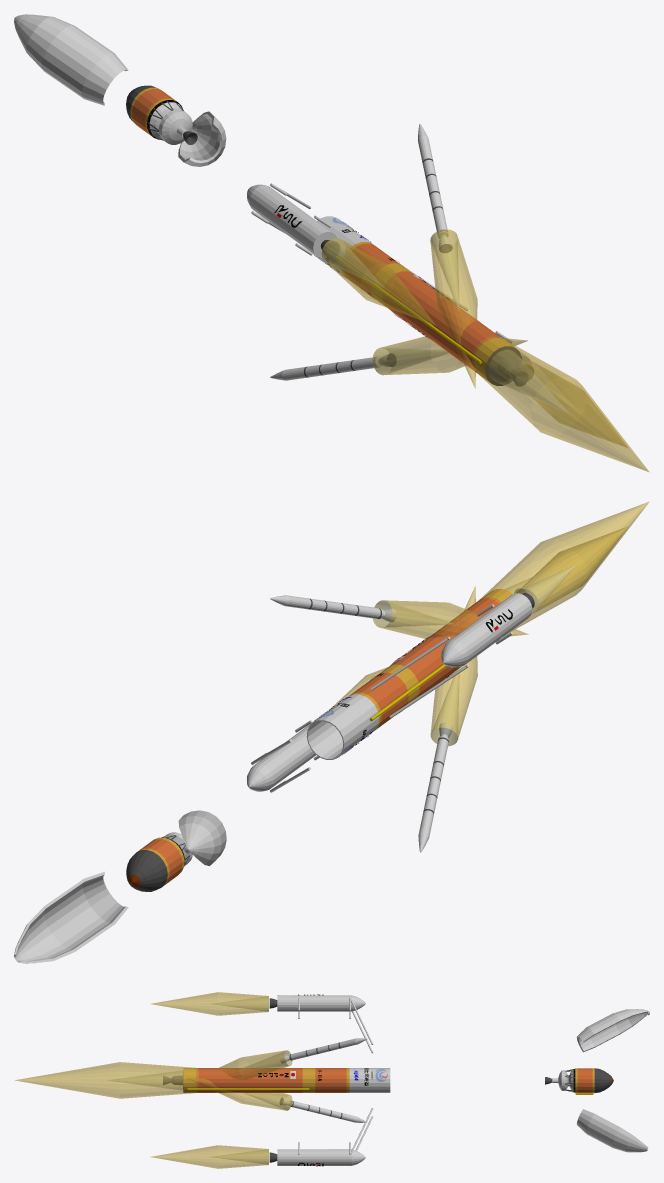
The model's file is H2A_SEP.obj.
3 views of the same model, one above another, from view 1: azimuth 30°, elevation 25°; view 2: azimuth 150°, elevation 25°; view 3: azimuth 270°, elevation 25° (orthographic). The views are drawn at different scales.
Visible parts, largest first — view 1: ShapeIndexedFaceSet.020_ShapeIndexedFaceSet.021, ShapeIndexedFaceSet.013_ShapeIndexedFaceSet.014, ShapeIndexedFaceSet.008_ShapeIndexedFaceSet.009, ShapeIndexedFaceSet.042_ShapeIndexedFaceSet.043, ShapeIndexedFaceSet.027_ShapeIndexedFaceSet.028, ShapeIndexedFaceSet.024_ShapeIndexedFaceSet.025, ShapeIndexedFaceSet.038_ShapeIndexedFaceSet.039, ShapeIndexedFaceSet.034_ShapeIndexedFaceSet.035, ShapeIndexedFaceSet.021_ShapeIndexedFaceSet.022, ShapeIndexedFaceSet.007_ShapeIndexedFaceSet.008, ShapeIndexedFaceSet.001_ShapeIndexedFaceSet.002, ShapeIndexedFaceSet.011_ShapeIndexedFaceSet.012 (+8 smaller); view 2: ShapeIndexedFaceSet.020_ShapeIndexedFaceSet.021, ShapeIndexedFaceSet.007_ShapeIndexedFaceSet.008, ShapeIndexedFaceSet.013_ShapeIndexedFaceSet.014, ShapeIndexedFaceSet.027_ShapeIndexedFaceSet.028, ShapeIndexedFaceSet.024_ShapeIndexedFaceSet.025, ShapeIndexedFaceSet.010_ShapeIndexedFaceSet.011, ShapeIndexedFaceSet.042_ShapeIndexedFaceSet.043, ShapeIndexedFaceSet.038_ShapeIndexedFaceSet.039, ShapeIndexedFaceSet.031_ShapeIndexedFaceSet.032, ShapeIndexedFaceSet.008_ShapeIndexedFaceSet.009, ShapeIndexedFaceSet.036_ShapeIndexedFaceSet.037, ShapeIndexedFaceSet.002_ShapeIndexedFaceSet.003 (+6 smaller); view 3: ShapeIndexedFaceSet.020_ShapeIndexedFaceSet.021, ShapeIndexedFaceSet.013_ShapeIndexedFaceSet.014, ShapeIndexedFaceSet.034_ShapeIndexedFaceSet.035, ShapeIndexedFaceSet.027_ShapeIndexedFaceSet.028, ShapeIndexedFaceSet.007_ShapeIndexedFaceSet.008, ShapeIndexedFaceSet.008_ShapeIndexedFaceSet.009, ShapeIndexedFaceSet.024_ShapeIndexedFaceSet.025, ShapeIndexedFaceSet.031_ShapeIndexedFaceSet.032, ShapeIndexedFaceSet.042_ShapeIndexedFaceSet.043, ShapeIndexedFaceSet.038_ShapeIndexedFaceSet.039, ShapeIndexedFaceSet.010_ShapeIndexedFaceSet.011, ShapeIndexedFaceSet.021_ShapeIndexedFaceSet.022 (+11 smaller).
Part boxes in pixels (left/top/right/bottom): ShapeIndexedFaceSet.020_ShapeIndexedFaceSet.021: left=472, top=337, right=649, bottom=472; ShapeIndexedFaceSet.013_ShapeIndexedFaceSet.014: left=345, top=243, right=503, bottom=373; ShapeIndexedFaceSet.008_ShapeIndexedFaceSet.009: left=14, top=14, right=128, bottom=105; ShapeIndexedFaceSet.042_ShapeIndexedFaceSet.043: left=430, top=229, right=477, bottom=388; ShapeIndexedFaceSet.027_ShapeIndexedFaceSet.028: left=322, top=238, right=435, bottom=325; ShapeIndexedFaceSet.024_ShapeIndexedFaceSet.025: left=247, top=183, right=337, bottom=258; ShapeIndexedFaceSet.038_ShapeIndexedFaceSet.039: left=373, top=336, right=527, bottom=374; ShapeIndexedFaceSet.034_ShapeIndexedFaceSet.035: left=534, top=363, right=627, bottom=447; ShapeIndexedFaceSet.021_ShapeIndexedFaceSet.022: left=489, top=350, right=568, bottom=413; ShapeIndexedFaceSet.007_ShapeIndexedFaceSet.008: left=178, top=111, right=226, bottom=166; ShapeIndexedFaceSet.001_ShapeIndexedFaceSet.002: left=149, top=102, right=192, bottom=144; ShapeIndexedFaceSet.011_ShapeIndexedFaceSet.012: left=485, top=346, right=528, bottom=386; ShapeIndexedFaceSet.020_ShapeIndexedFaceSet.021: left=479, top=501, right=649, bottom=632; ShapeIndexedFaceSet.007_ShapeIndexedFaceSet.008: left=14, top=871, right=128, bottom=963; ShapeIndexedFaceSet.013_ShapeIndexedFaceSet.014: left=351, top=597, right=501, bottom=729; ShapeIndexedFaceSet.027_ShapeIndexedFaceSet.028: left=519, top=526, right=628, bottom=612; ShapeIndexedFaceSet.024_ShapeIndexedFaceSet.025: left=433, top=593, right=532, bottom=674; ShapeIndexedFaceSet.010_ShapeIndexedFaceSet.011: left=306, top=656, right=404, bottom=759; ShapeIndexedFaceSet.042_ShapeIndexedFaceSet.043: left=380, top=600, right=528, bottom=638; ShapeIndexedFaceSet.038_ShapeIndexedFaceSet.039: left=430, top=586, right=477, bottom=738; ShapeIndexedFaceSet.031_ShapeIndexedFaceSet.032: left=246, top=719, right=319, bottom=792; ShapeIndexedFaceSet.008_ShapeIndexedFaceSet.009: left=178, top=810, right=226, bottom=866; ShapeIndexedFaceSet.036_ShapeIndexedFaceSet.037: left=418, top=722, right=452, bottom=852; ShapeIndexedFaceSet.002_ShapeIndexedFaceSet.003: left=126, top=835, right=189, bottom=891; ShapeIndexedFaceSet.020_ShapeIndexedFaceSet.021: left=15, top=1062, right=198, bottom=1098; ShapeIndexedFaceSet.013_ShapeIndexedFaceSet.014: left=196, top=1068, right=346, bottom=1092; ShapeIndexedFaceSet.034_ShapeIndexedFaceSet.035: left=151, top=1145, right=268, bottom=1168; ShapeIndexedFaceSet.027_ShapeIndexedFaceSet.028: left=151, top=992, right=268, bottom=1015; ShapeIndexedFaceSet.007_ShapeIndexedFaceSet.008: left=577, top=1109, right=648, bottom=1152; ShapeIndexedFaceSet.008_ShapeIndexedFaceSet.009: left=576, top=1009, right=649, bottom=1052; ShapeIndexedFaceSet.024_ShapeIndexedFaceSet.025: left=277, top=995, right=365, bottom=1018; ShapeIndexedFaceSet.031_ShapeIndexedFaceSet.032: left=277, top=1142, right=365, bottom=1165; ShapeIndexedFaceSet.042_ShapeIndexedFaceSet.043: left=219, top=1050, right=290, bottom=1079; ShapeIndexedFaceSet.038_ShapeIndexedFaceSet.039: left=186, top=1077, right=291, bottom=1110; ShapeIndexedFaceSet.010_ShapeIndexedFaceSet.011: left=290, top=1068, right=390, bottom=1092; ShapeIndexedFaceSet.021_ShapeIndexedFaceSet.022: left=108, top=1070, right=182, bottom=1090.
Size of the model in its own units: 248 by 226 by 1031.
